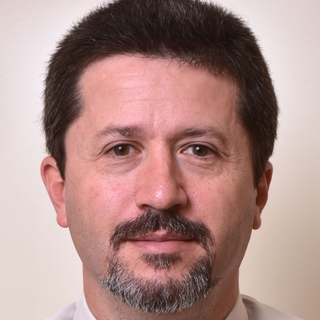eye: (175, 138, 227, 164), (94, 139, 146, 162)
